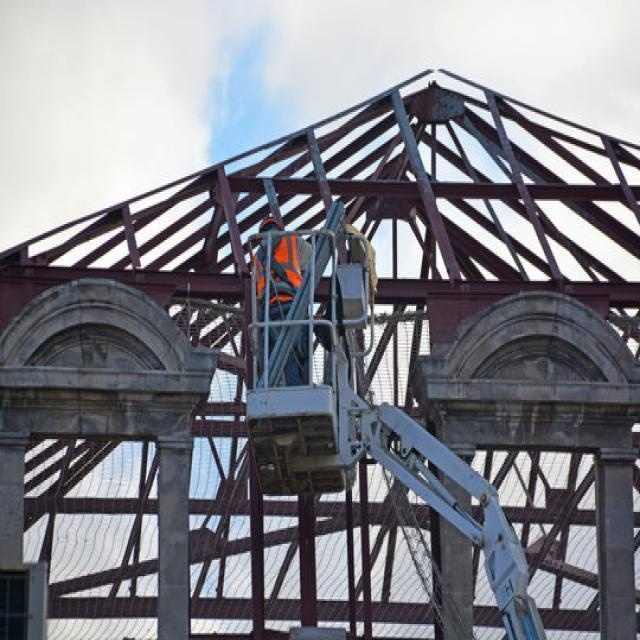Arnes_seguridad: (248, 232, 306, 318)
